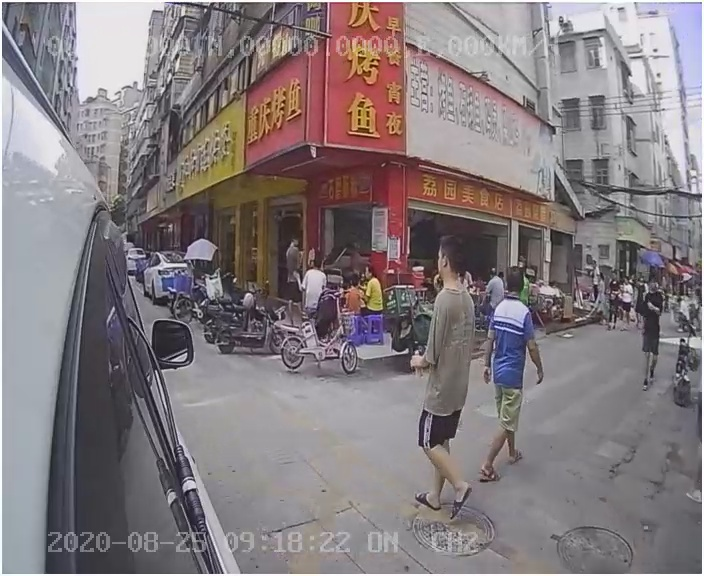person: (392, 233, 493, 516)
